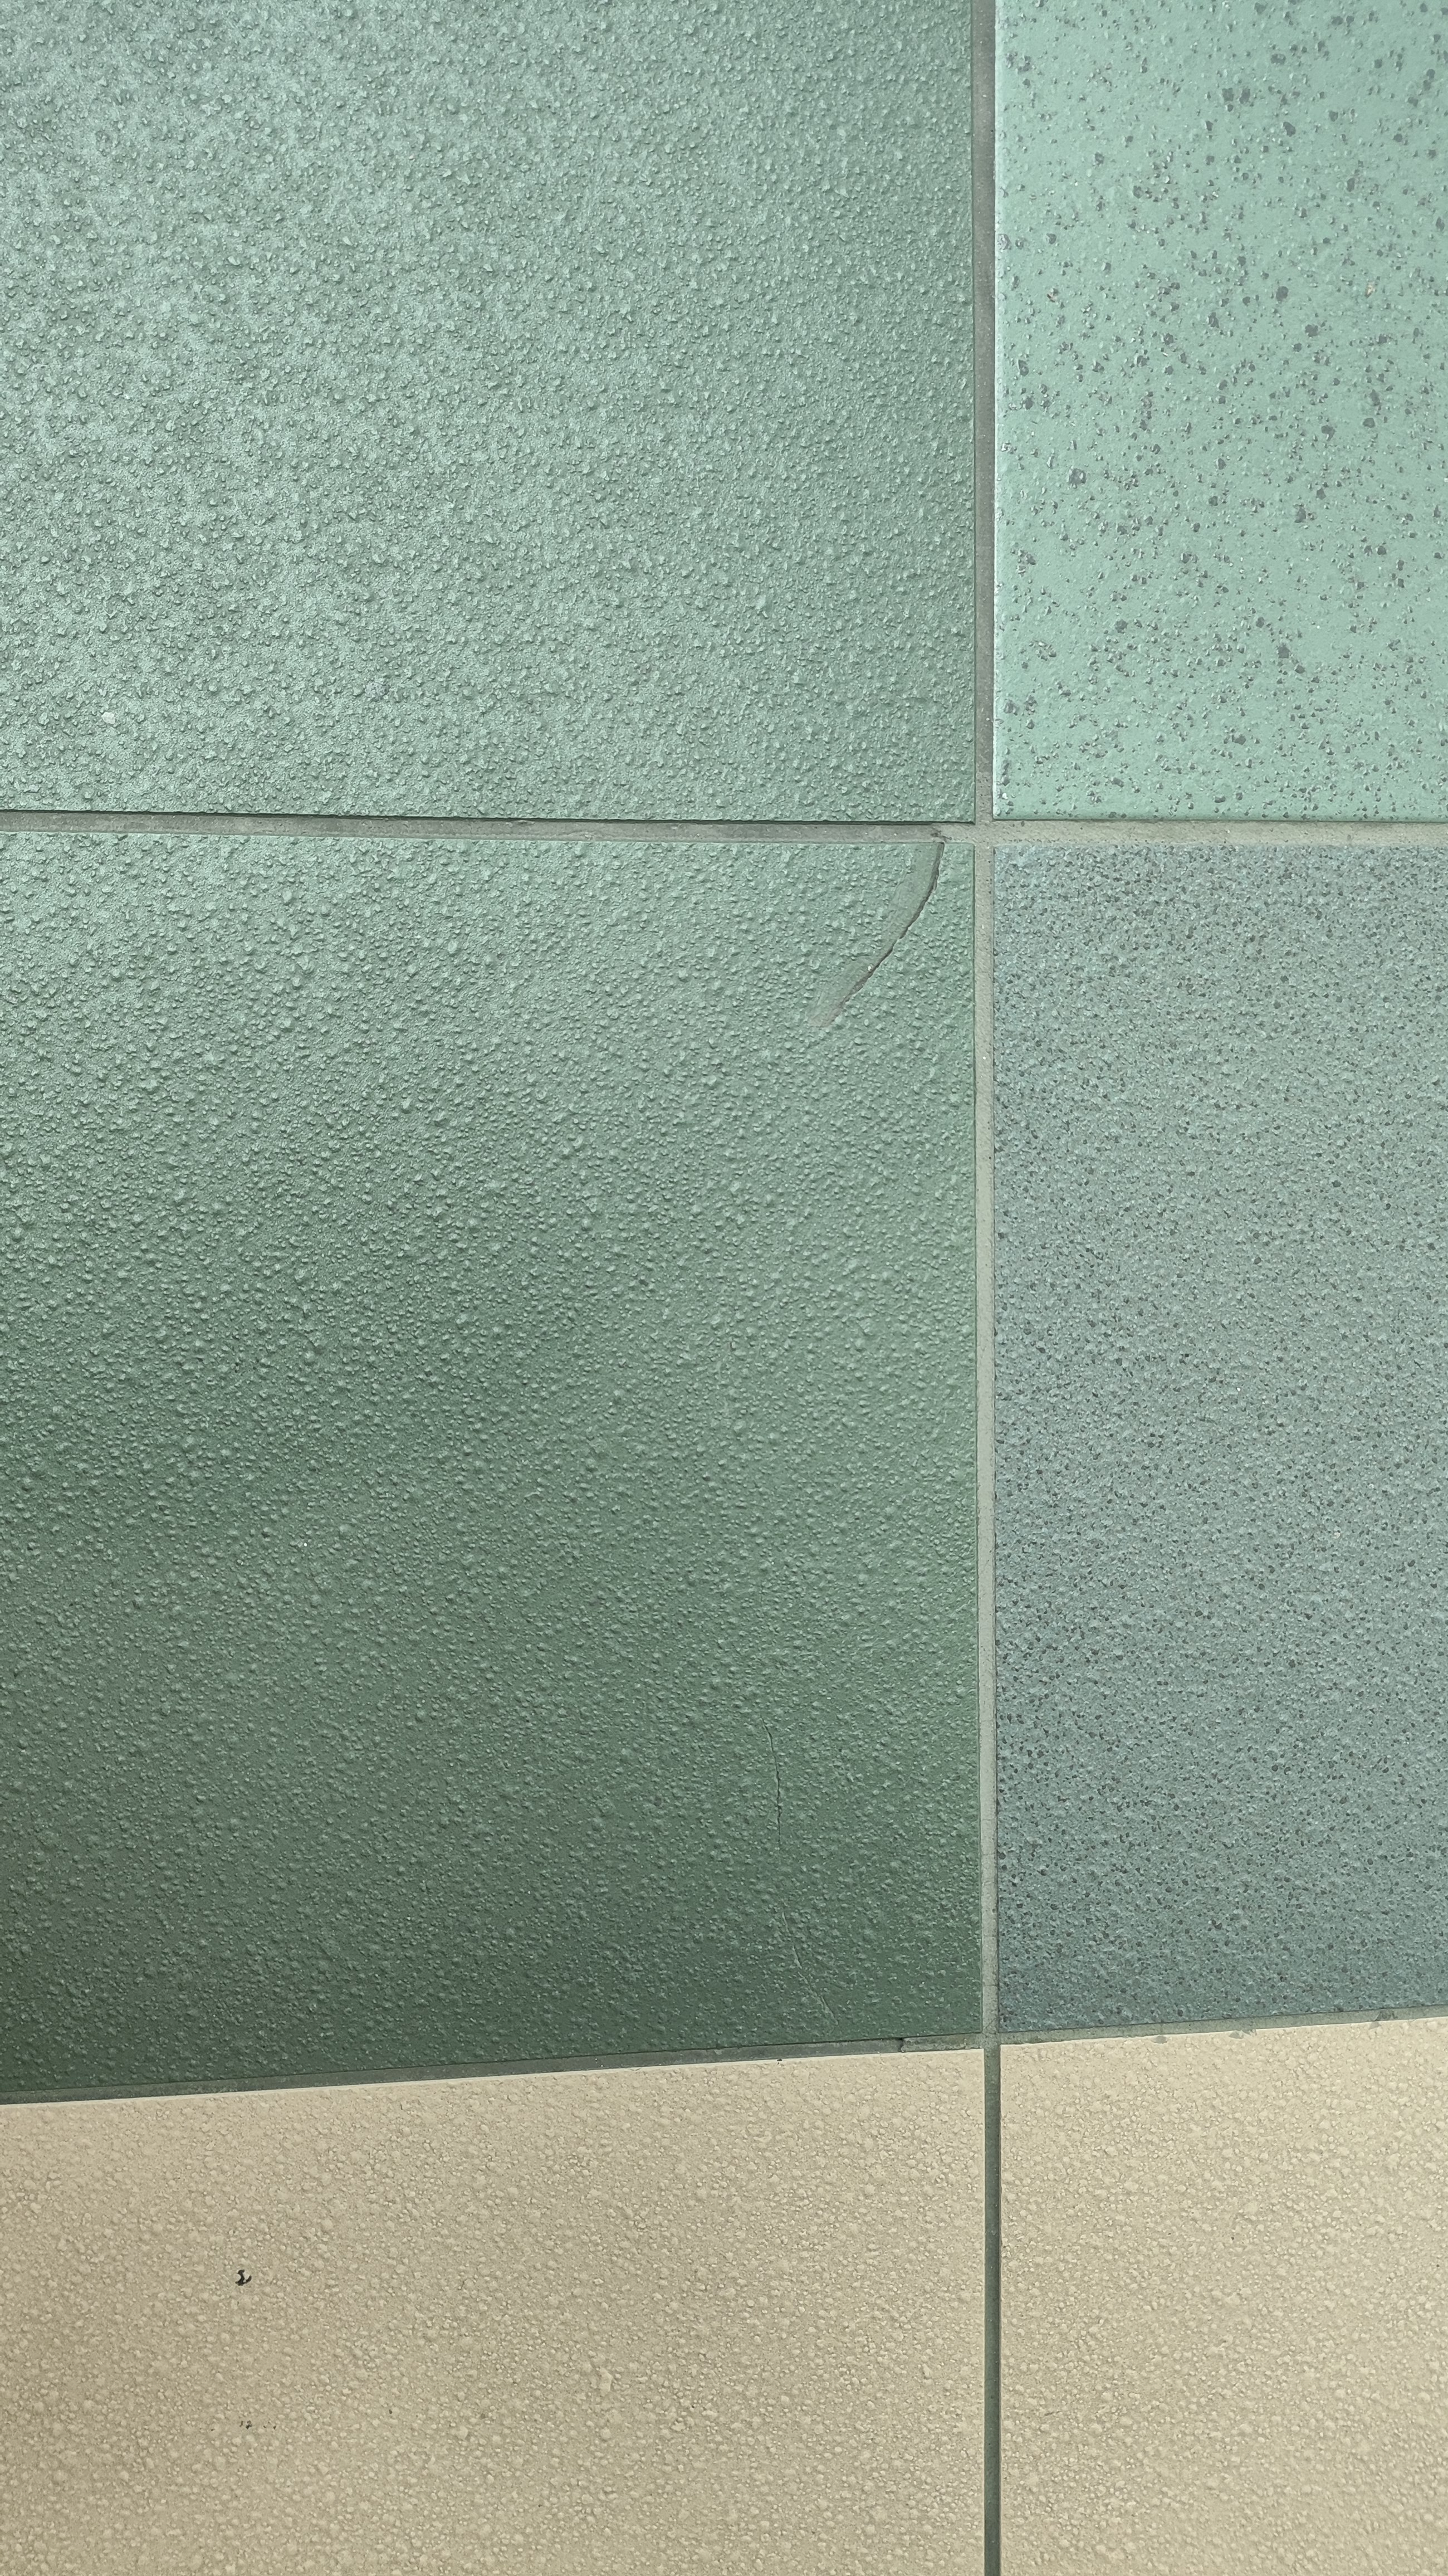Defect: (801, 832, 960, 1054)
